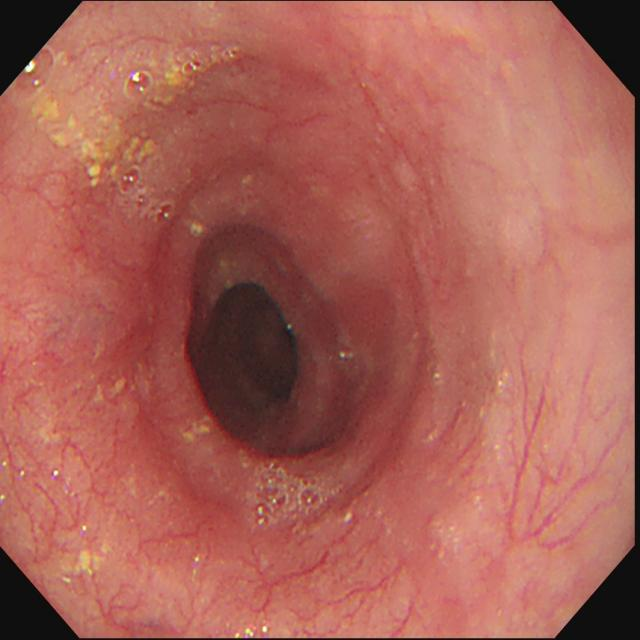E: (203, 275, 307, 420)
J: (36, 96, 157, 188), (182, 417, 213, 444), (166, 62, 189, 93)
T: (252, 461, 332, 526), (123, 169, 174, 220), (16, 47, 57, 93), (128, 66, 154, 100)
